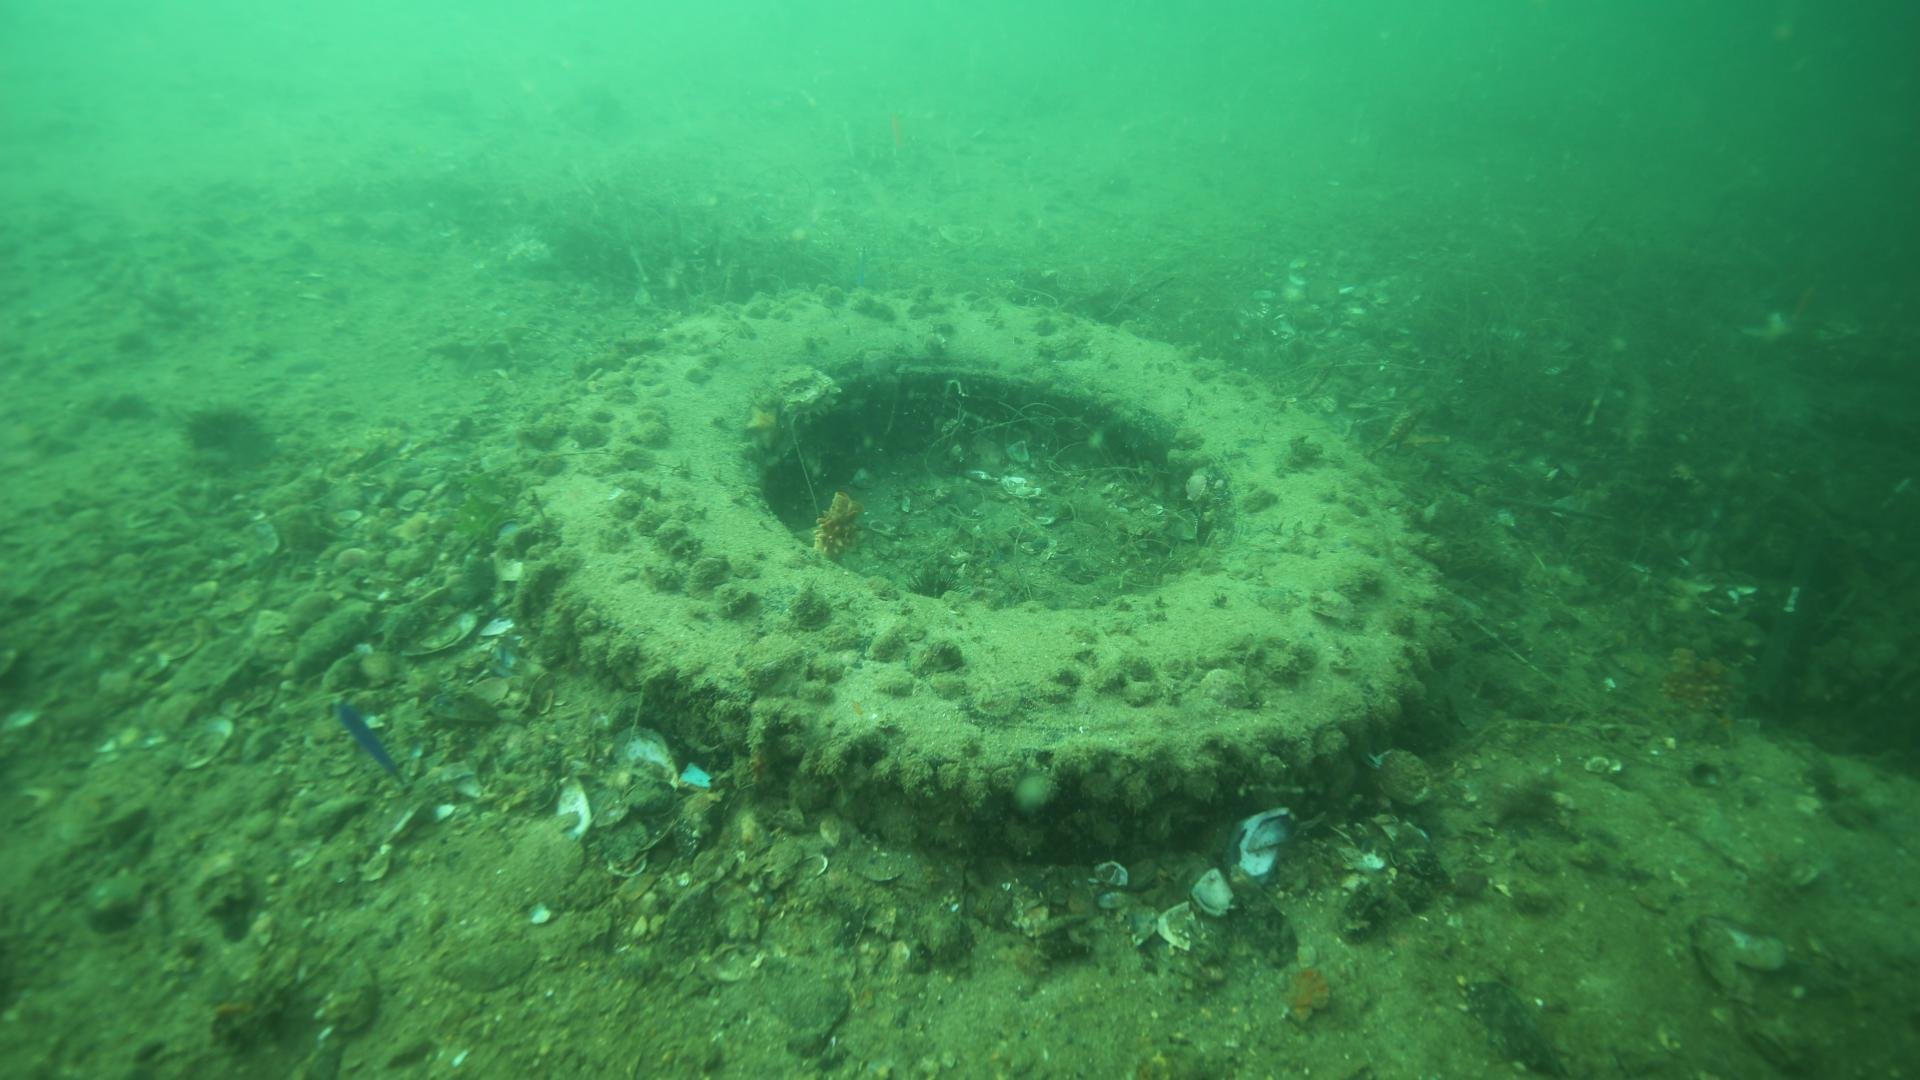tire: (521, 284, 1447, 853)
